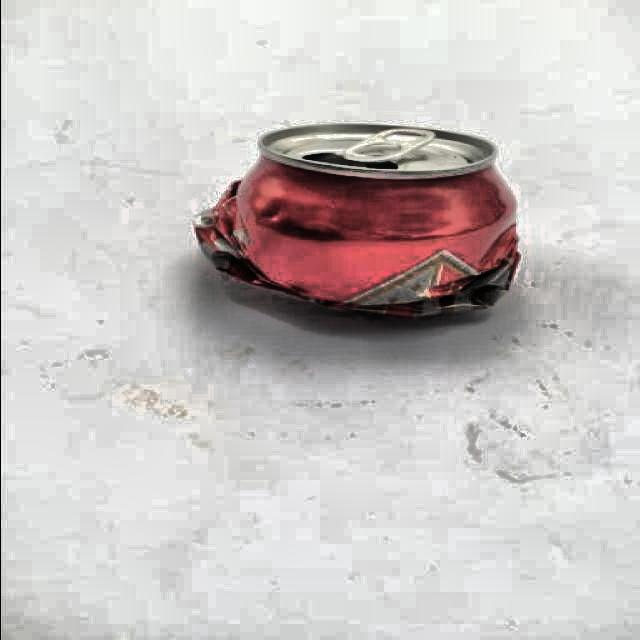metal: (194, 121, 520, 321)
